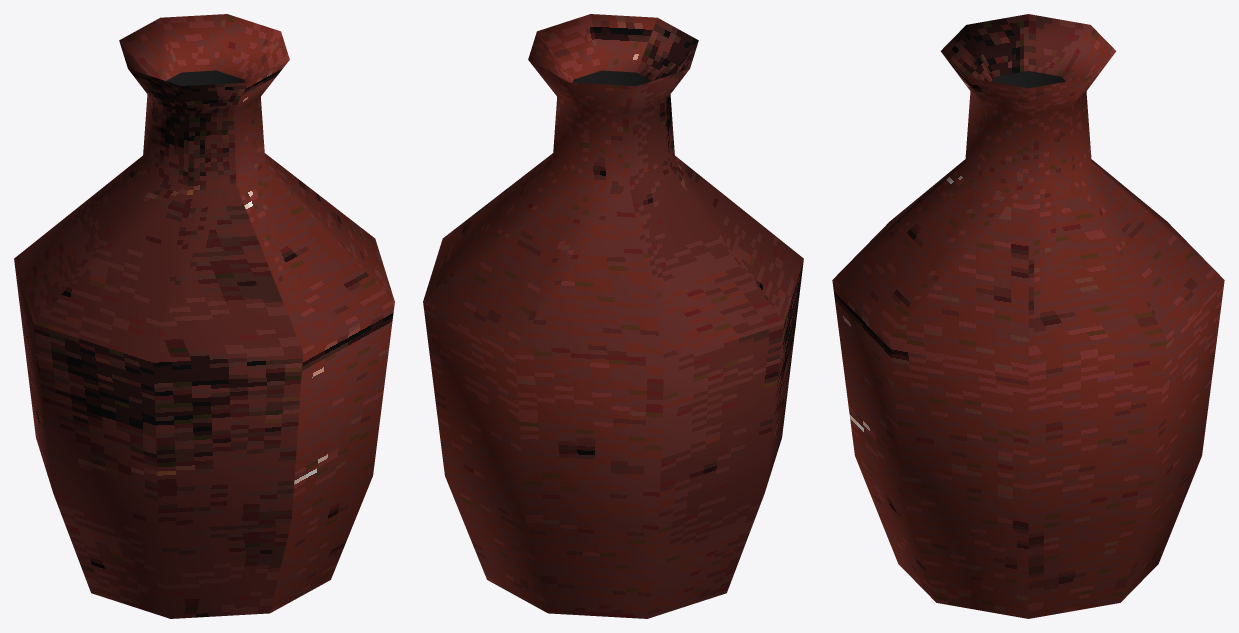
Rendered from URN5_ACTORDEF.fbx.
3 views of the same model, side by side, from view 1: azimuth 30°, elevation 25°; view 2: azimuth 150°, elevation 25°; view 3: azimuth 270°, elevation 25° (orthographic).
Parts seen in each view (by area): view 1: U3DMesh; view 2: U3DMesh; view 3: U3DMesh.
Boxes of the visible parts, x1,y1,x2,y2 form: U3DMesh: [14, 14, 394, 618]; U3DMesh: [423, 14, 803, 618]; U3DMesh: [832, 14, 1224, 618].
Size of the model in its own units: 2.77 by 4 by 2.77.
